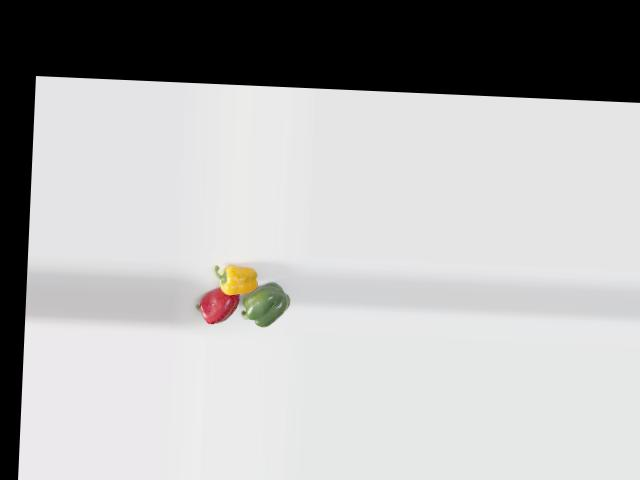bell_pepper: (212, 260, 259, 302)
